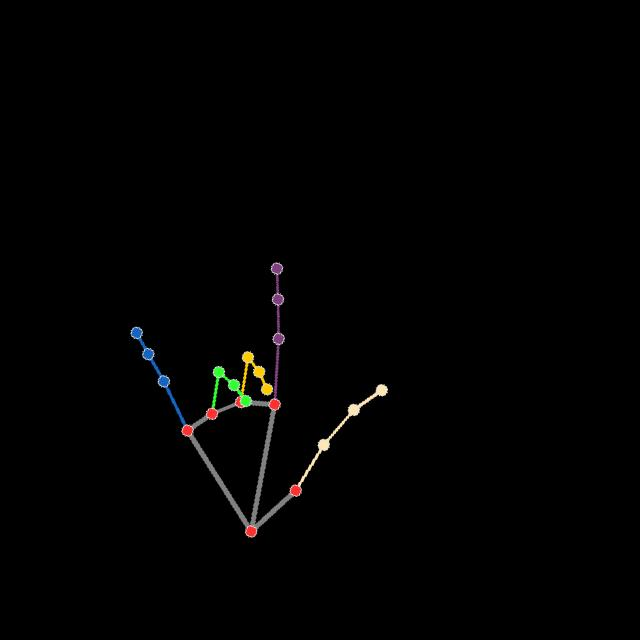spiderman: (127, 261, 392, 540)
